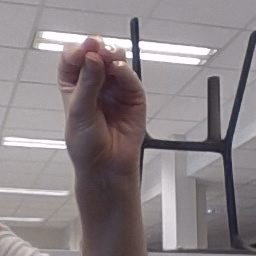M: (55, 33, 151, 163)
